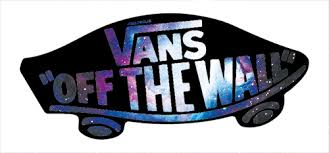vans: (103, 18, 206, 65)
